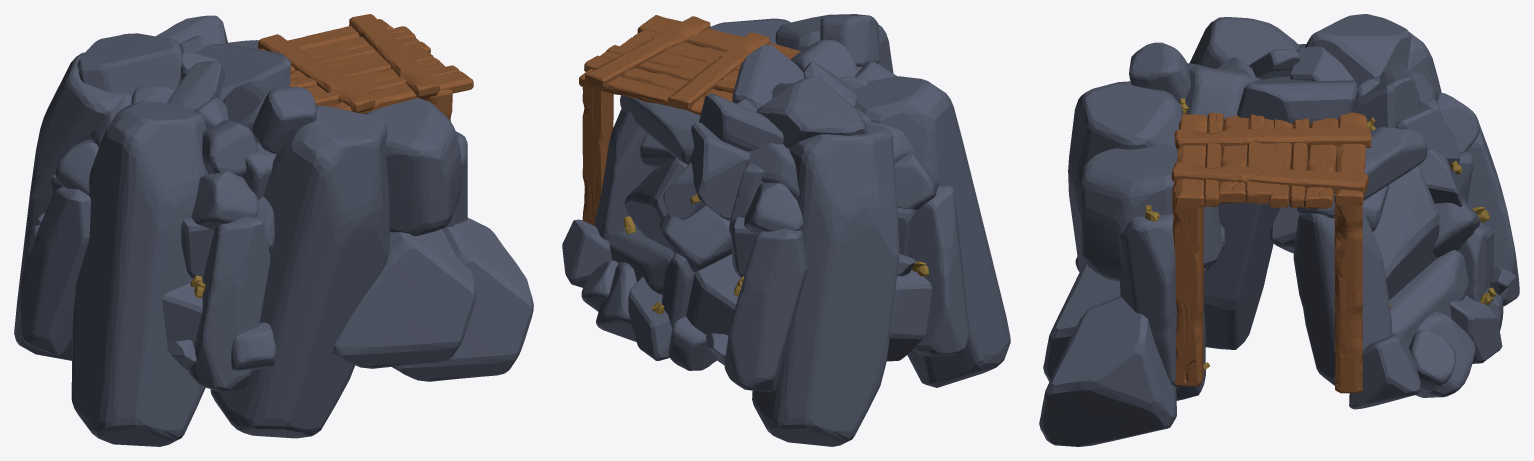
Rendered from mine.fbx.
The picture shows the model from 3 angles, left to right: view 1: azimuth 30°, elevation 25°; view 2: azimuth 150°, elevation 25°; view 3: azimuth 270°, elevation 25°; orthographic projection. The views are drawn at different scales.
Parts seen in each view (by area): view 1: Stone, Wood; view 2: Stone, Wood, Gold; view 3: Stone, Wood, Gold.
Part boxes in pixels (<box>): Stone: <box>14,15,533,446</box>; Wood: <box>258,14,473,121</box>; Stone: <box>562,14,1010,446</box>; Wood: <box>579,15,800,225</box>; Gold: <box>652,193,928,314</box>; Stone: <box>1039,14,1519,446</box>; Wood: <box>1171,112,1371,393</box>; Gold: <box>1145,98,1495,369</box>.
Size of the model in its own units: 247 by 201 by 243.
